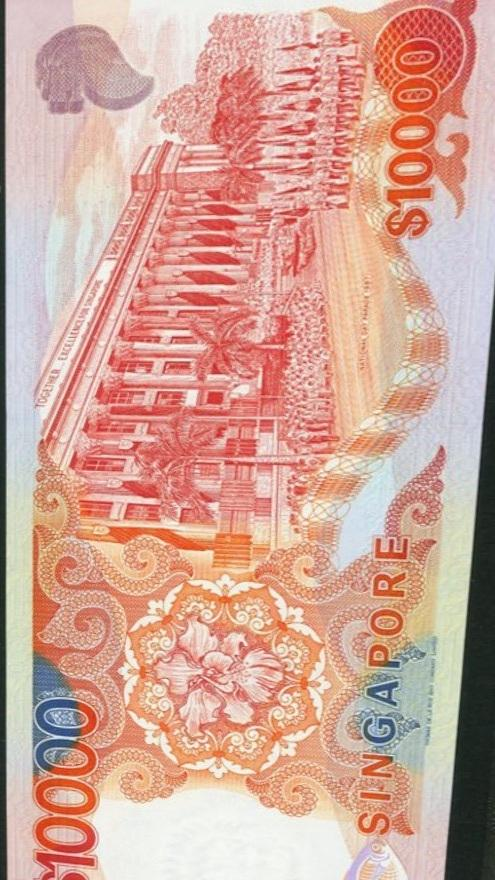10000SingaporeDollar: (4, 0, 482, 880)
